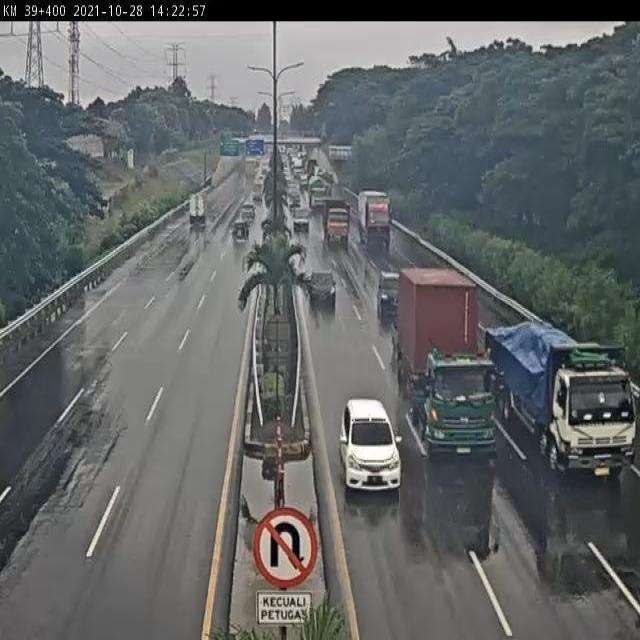Car: (332, 386, 401, 510), (372, 268, 403, 326), (309, 265, 345, 314)
Truck: (485, 322, 634, 474), (398, 266, 503, 462), (414, 452, 495, 560), (358, 190, 393, 252), (321, 198, 351, 249), (308, 175, 330, 208), (188, 193, 206, 231)
